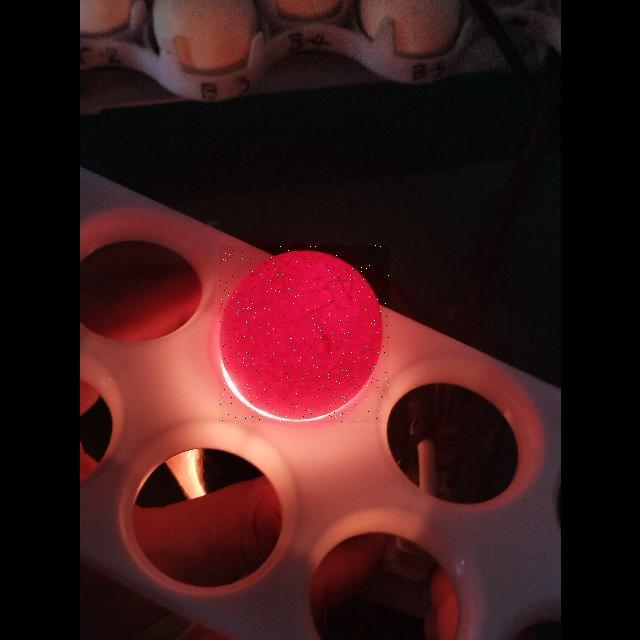Infertile: (219, 245, 389, 423)
